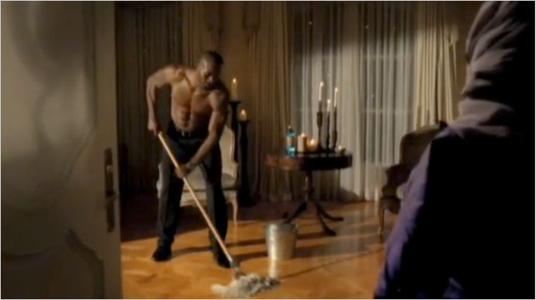person: (143, 52, 237, 270)
